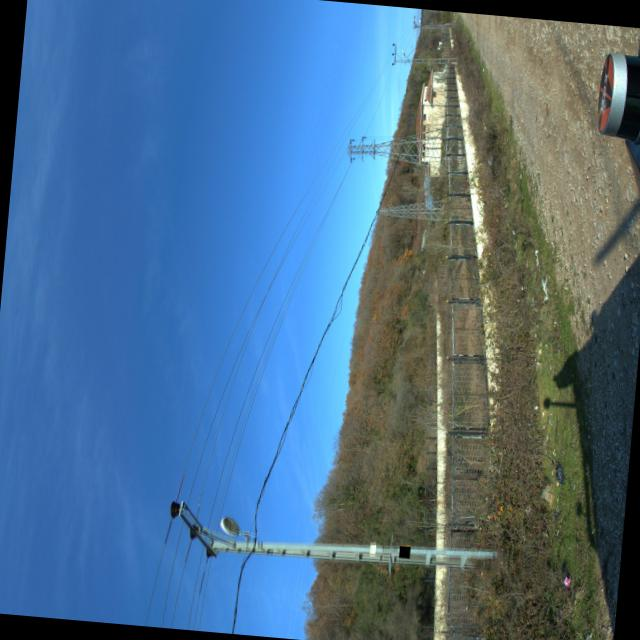Utility Pole Information Plate: (399, 545, 410, 557)
